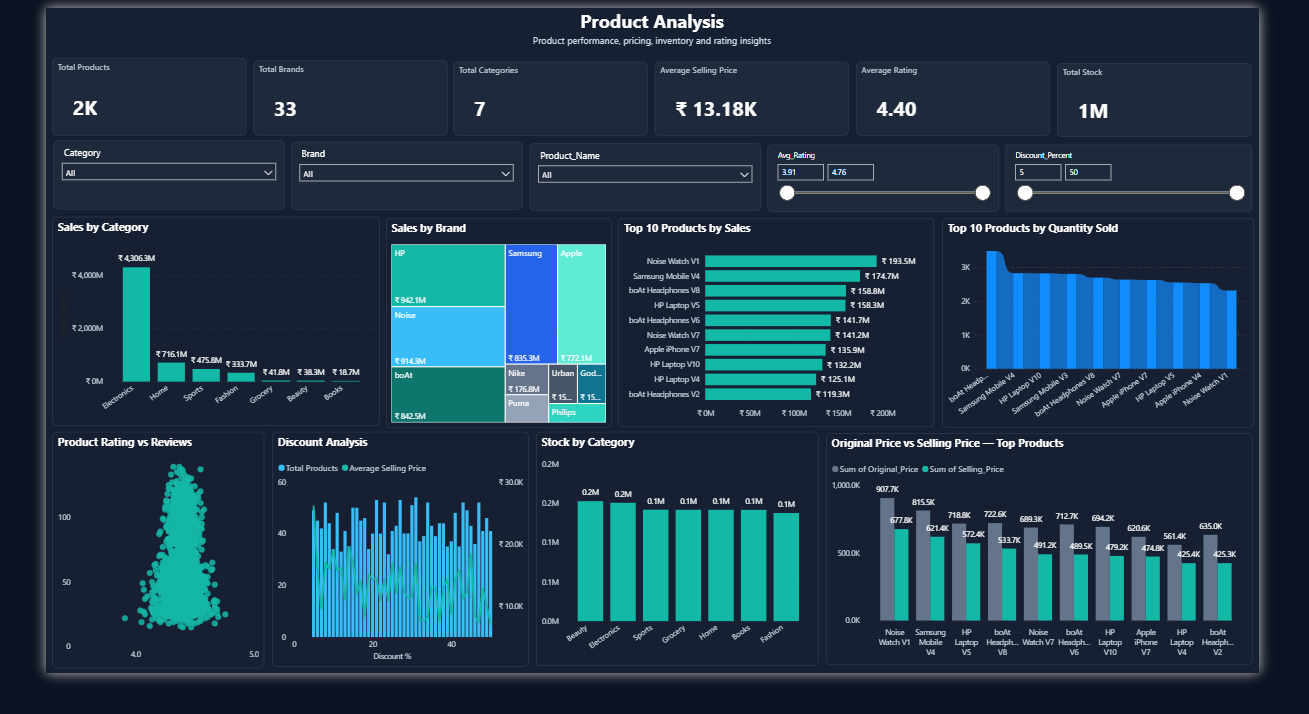

The dashboard page shown, as its layout file describes it:
{"tool":"powerbi","page":{"name":"Product Analysis","canvas":[1940,1065],"ordinal":1},"visuals":[{"type":"textbox","title":"Product Analysis","box":[0,0,1939.3,72.1],"z":0},{"type":"cardVisual","title":"Total Products","fields":{"Data":["_Measures.Total Products"]},"box":[10,80,310,124],"z":1000},{"type":"cardVisual","title":"Total Categories","fields":{"Data":["_Measures.Total Categories"]},"box":[652,86,310,118],"z":2000},{"type":"cardVisual","title":"Total Brands","fields":{"Data":["_Measures.Total Brands"]},"box":[332,84,310,119.6],"z":3000},{"type":"cardVisual","title":"Average Selling Price","fields":{"Data":["_Measures.Average Selling Price"]},"box":[974.4,86.8,310,118],"z":4000},{"type":"cardVisual","title":"Average Rating","fields":{"Data":["_Measures.Average Rating"]},"box":[1296,86,310,118],"z":5000},{"type":"cardVisual","title":"Total Stock","fields":{"Data":["_Measures.Total Stock"]},"box":[1618,88,310,118],"z":6000},{"type":"clusteredColumnChart","title":"Sales by Category","fields":{"Category":["products.Category"],"Y":["_Measures.Total Sales"]},"box":[10,334,524,334.8],"z":7000},{"type":"treemap","title":"Sales by Brand","fields":{"Group":["products.Brand"],"Values":["_Measures.Total Sales"]},"box":[544,336,361.2,336],"z":8000},{"type":"clusteredBarChart","title":"Top 10 Products by Sales","fields":{"Category":["products.Product_Name"],"Y":["_Measures.Total Sales"]},"box":[916.8,336,505.2,334],"z":9000},{"type":"ribbonChart","title":"Top 10 Products by Quantity Sold","fields":{"Category":["products.Product_Name"],"Y":["_Measures.Total Quantity Sold"]},"box":[1434,336,498,335.2],"z":10000},{"type":"scatterChart","title":"Product Rating vs Reviews","fields":{"X":["products.Avg_Rating"],"Y":["products.Total_Reviews"]},"box":[10,678,339.6,378],"z":11000},{"type":"lineClusteredColumnComboChart","title":"Discount Analysis","fields":{"Category":["products.Discount_Percent"],"Y":["_Measures.Total Products"],"Y2":["_Measures.Average Selling Price"]},"box":[362,678,410.4,376],"z":12000},{"type":"columnChart","title":"Stock by Category","fields":{"Category":["products.Category"],"Y":["_Measures.Total Stock"]},"box":[784,678,452,374],"z":13000},{"type":"clusteredColumnChart","title":"Original Price vs Selling Price — Top Products","fields":{"Category":["products.Product_Name"],"Y":["Sum(products.Original_Price)","Sum(products.Selling_Price)"]},"box":[1248,680,682,371.6],"z":14000},{"type":"slicer","fields":{"Values":["products.Category"]},"box":[12,212,370,110.4],"z":15000},{"type":"slicer","fields":{"Values":["products.Brand"]},"box":[392,214,370,108.8],"z":16000},{"type":"slicer","fields":{"Values":["products.Product_Name"]},"box":[774,216,370,108.8],"z":17000},{"type":"slicer","fields":{"Values":["products.Avg_Rating"]},"box":[1153.2,218,370,108.4],"z":18000},{"type":"slicer","fields":{"Values":["products.Discount_Percent"]},"box":[1534,218,396,108.4],"z":19000}]}

Visuals, with their boxes in screenshot pixels (x1, y1, x2, y2), scaled from the page's 1940x1065 canvas onto the 1309x714 screenshot:
"Product Analysis" textbox: x1=0 y1=0 x2=1308 y2=48
"Total Products" cardVisual: x1=7 y1=54 x2=216 y2=137
"Total Categories" cardVisual: x1=440 y1=58 x2=649 y2=137
"Total Brands" cardVisual: x1=224 y1=56 x2=433 y2=136
"Average Selling Price" cardVisual: x1=657 y1=58 x2=867 y2=137
"Average Rating" cardVisual: x1=874 y1=58 x2=1084 y2=137
"Total Stock" cardVisual: x1=1092 y1=59 x2=1301 y2=138
"Sales by Category" clusteredColumnChart: x1=7 y1=224 x2=360 y2=448
"Sales by Brand" treemap: x1=367 y1=225 x2=611 y2=451
"Top 10 Products by Sales" clusteredBarChart: x1=619 y1=225 x2=959 y2=449
"Top 10 Products by Quantity Sold" ribbonChart: x1=968 y1=225 x2=1304 y2=450
"Product Rating vs Reviews" scatterChart: x1=7 y1=455 x2=236 y2=708
"Discount Analysis" lineClusteredColumnComboChart: x1=244 y1=455 x2=521 y2=707
"Stock by Category" columnChart: x1=529 y1=455 x2=834 y2=705
"Original Price vs Selling Price — Top Products" clusteredColumnChart: x1=842 y1=456 x2=1302 y2=705
slicer - products.Category: x1=8 y1=142 x2=258 y2=216
slicer - products.Brand: x1=264 y1=143 x2=514 y2=216
slicer - products.Product_Name: x1=522 y1=145 x2=772 y2=218
slicer - products.Avg_Rating: x1=778 y1=146 x2=1028 y2=219
slicer - products.Discount_Percent: x1=1035 y1=146 x2=1302 y2=219
